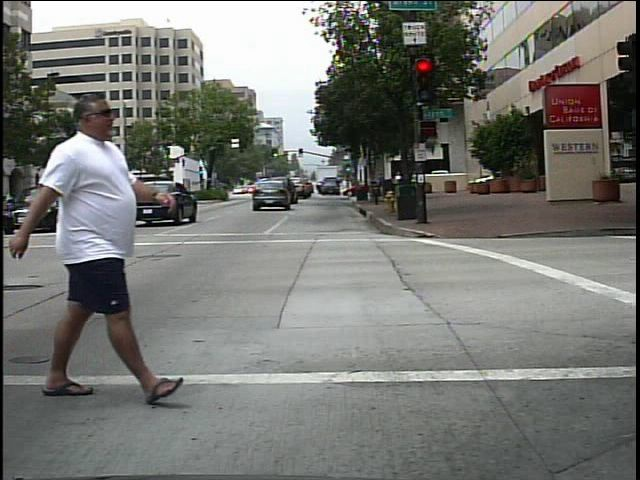person: (9, 87, 173, 406)
